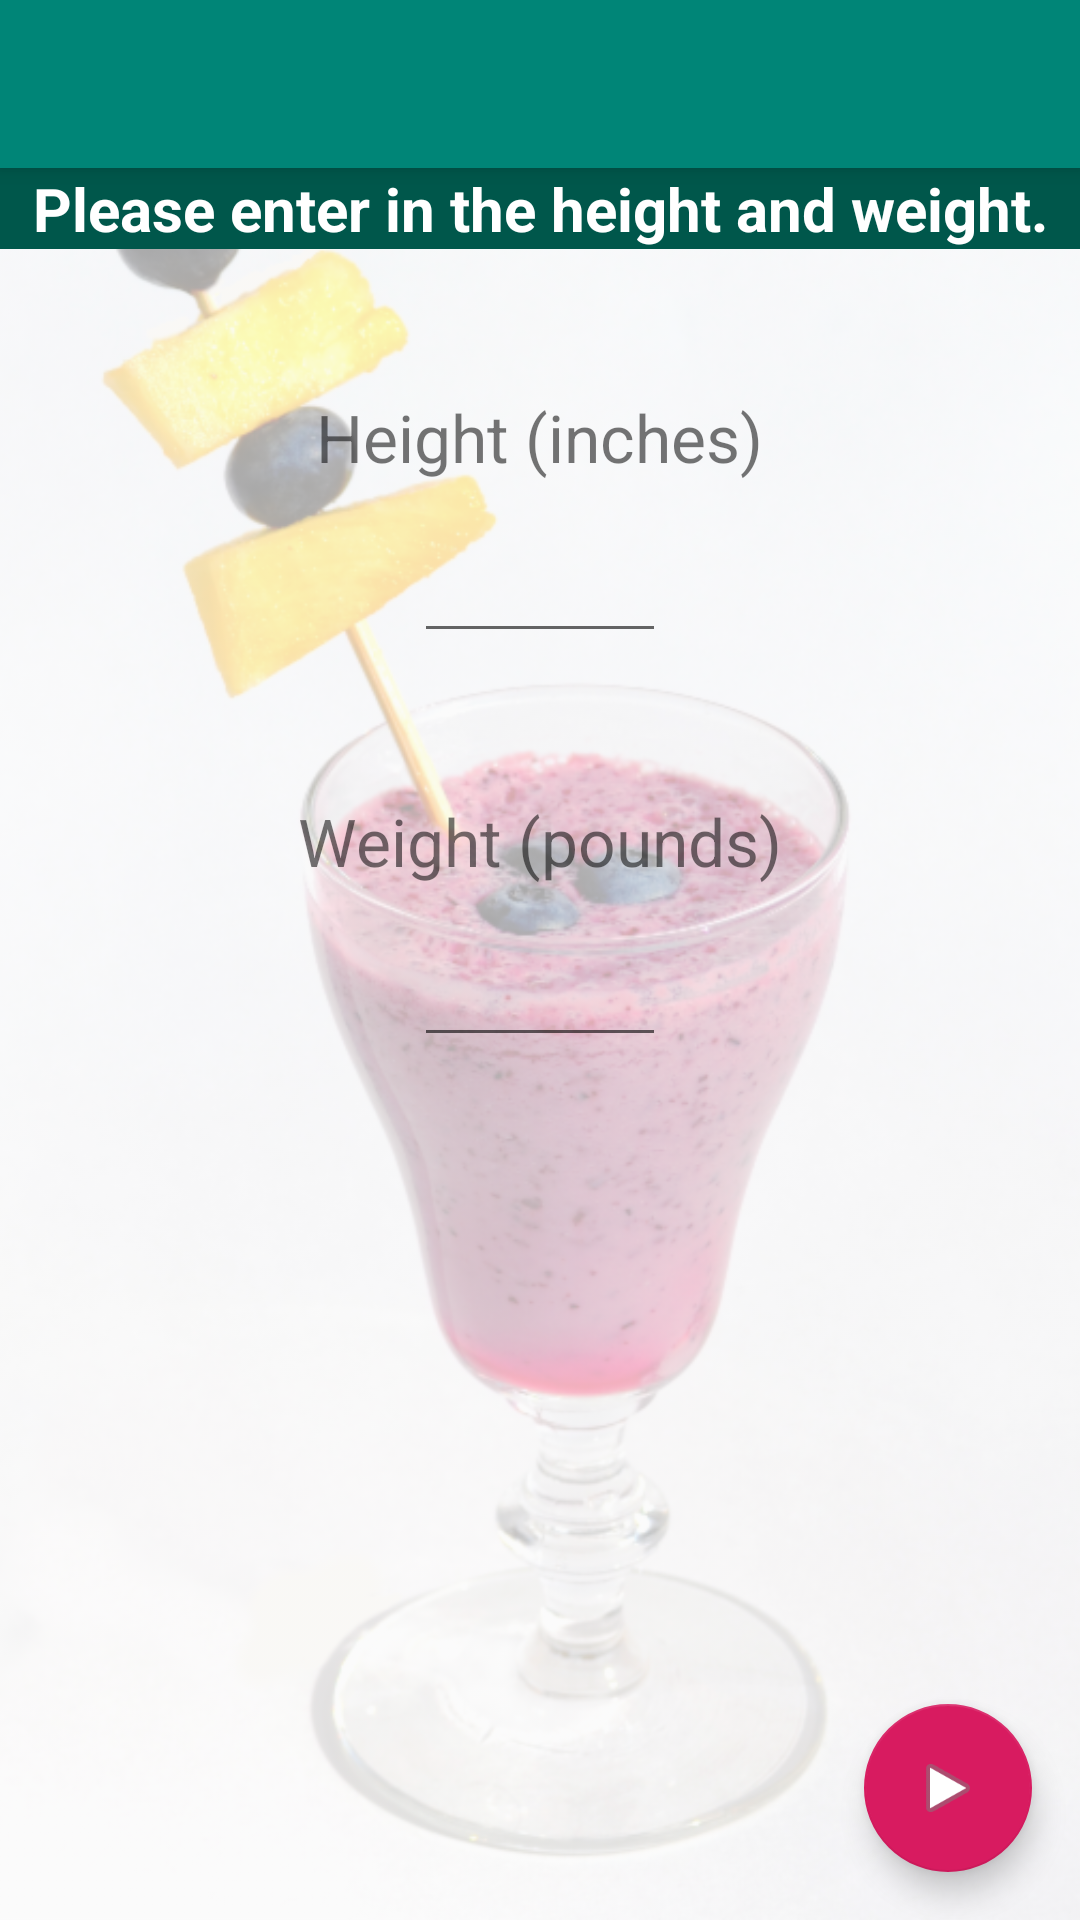

Named icons in this screenshot (1080w x 1920h) and their bounding boxes, [x1,y1,x2,y2]:
play: [864,1704,1032,1872]
